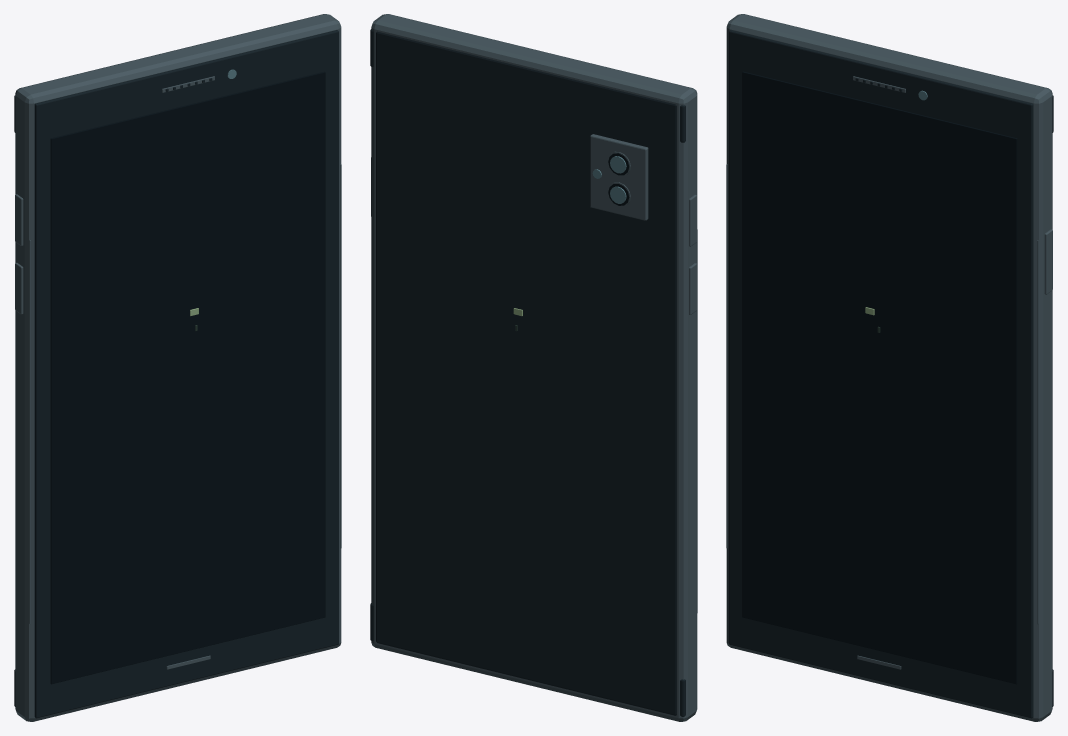
The model's file is live-circuit-details.glb.
3 renders of one model, left to right at view 1: azimuth 30°, elevation 25°; view 2: azimuth 150°, elevation 25°; view 3: azimuth 330°, elevation 25°, orthographic.
Visible parts, largest first — view 1: phone-device_phone_glass, phone-device_phone_case, phone-device_phone_frame; view 2: phone-device_phone_case, phone-device_phone_frame, phone-device_phone_lens; view 3: phone-device_phone_glass, phone-device_phone_case, phone-device_phone_frame.
Part boxes in pixels (x1,y1,x2,y2): phone-device_phone_glass: (50,71,325,684); phone-device_phone_case: (14,30,338,718); phone-device_phone_frame: (15,14,341,721); phone-device_phone_case: (370,29,685,716); phone-device_phone_frame: (371,14,697,721); phone-device_phone_lens: (592,156,626,203); phone-device_phone_glass: (742,71,1017,684); phone-device_phone_case: (729,30,1053,718); phone-device_phone_frame: (726,14,1052,721).
Bounding box in the file's own units: 176 × 331 × 34.6.
